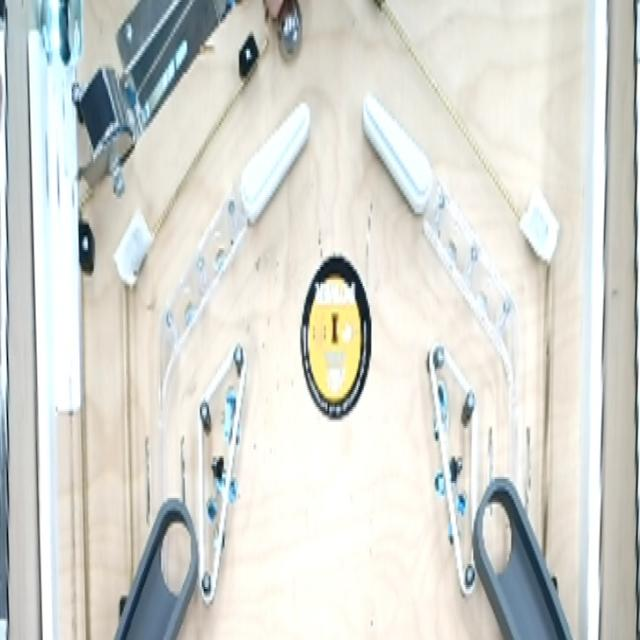ball: (274, 0, 306, 69)
flipper-left: (360, 89, 439, 238)
flipper-right: (236, 84, 317, 228)
